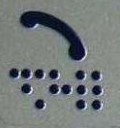Braille: (34, 68, 60, 110), (92, 69, 117, 111), (62, 69, 87, 110), (9, 67, 32, 110)
